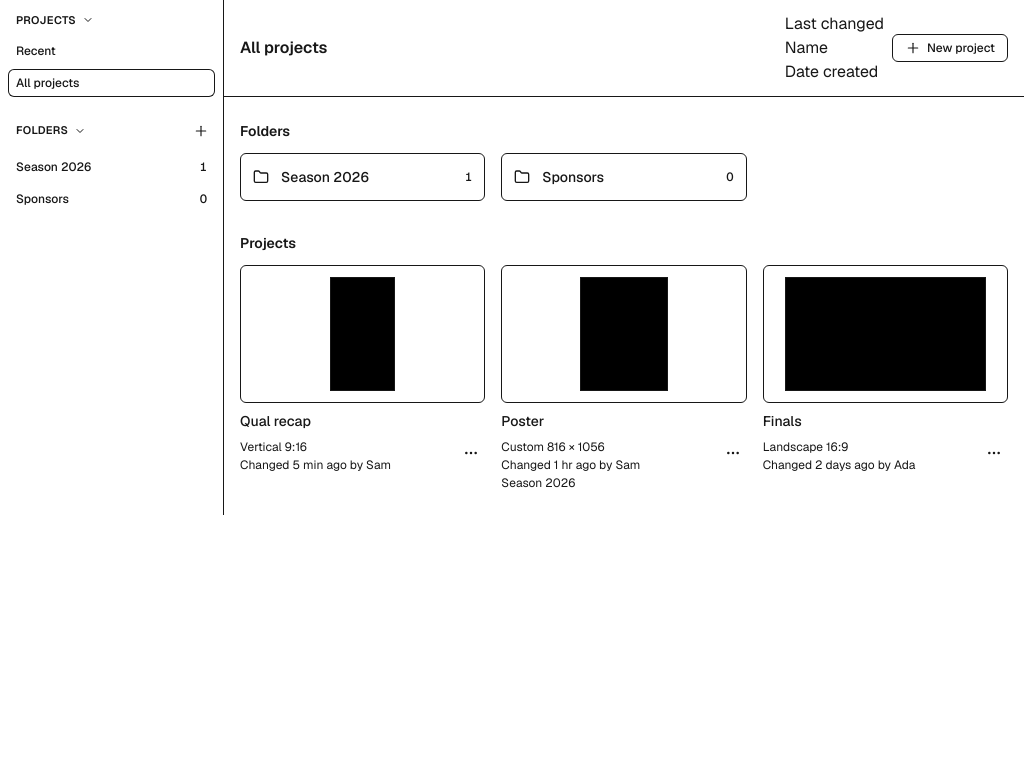
Test case: a card's Move to… item › opens the dialog with the targets
The width and height of the screenshot is (1024, 768).
What coordinates should you click on to do the following:
click the button named "Project options" next to "Changed 5 min ago by Sam"
I would click on:
 (471, 453)
Its box is [457,439,485,467].
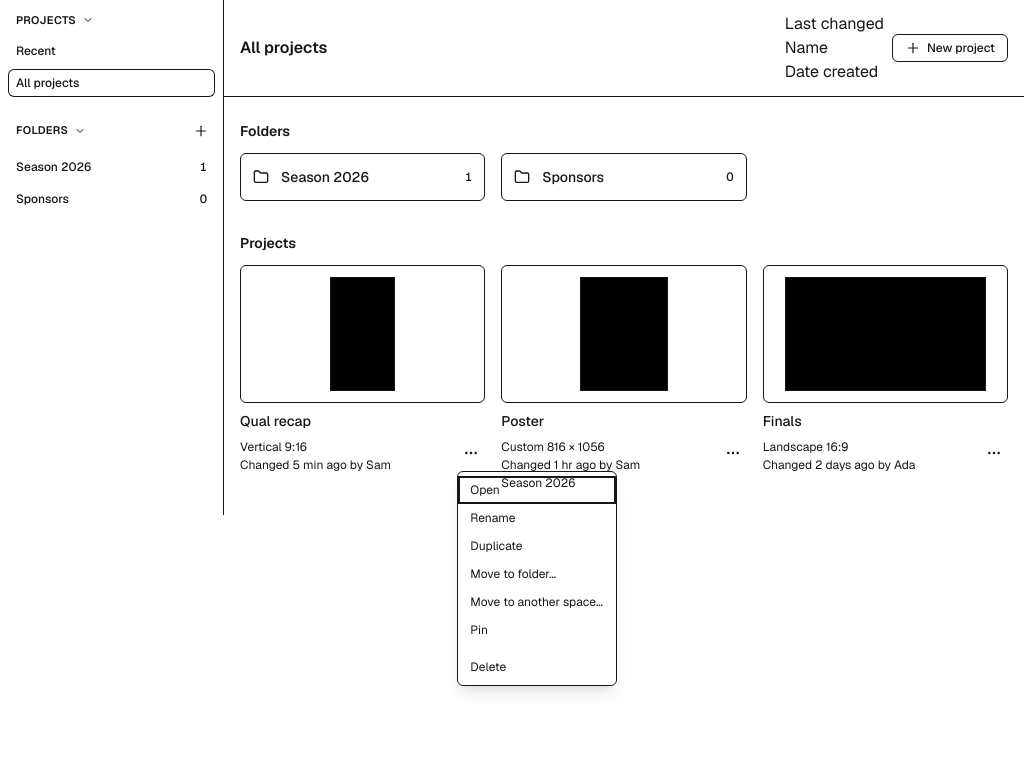
What coordinates should you click on to do the following:
click the menu item "Move to another space…"
I would click on:
 (537, 602)
Its box is [458,588,616,616].
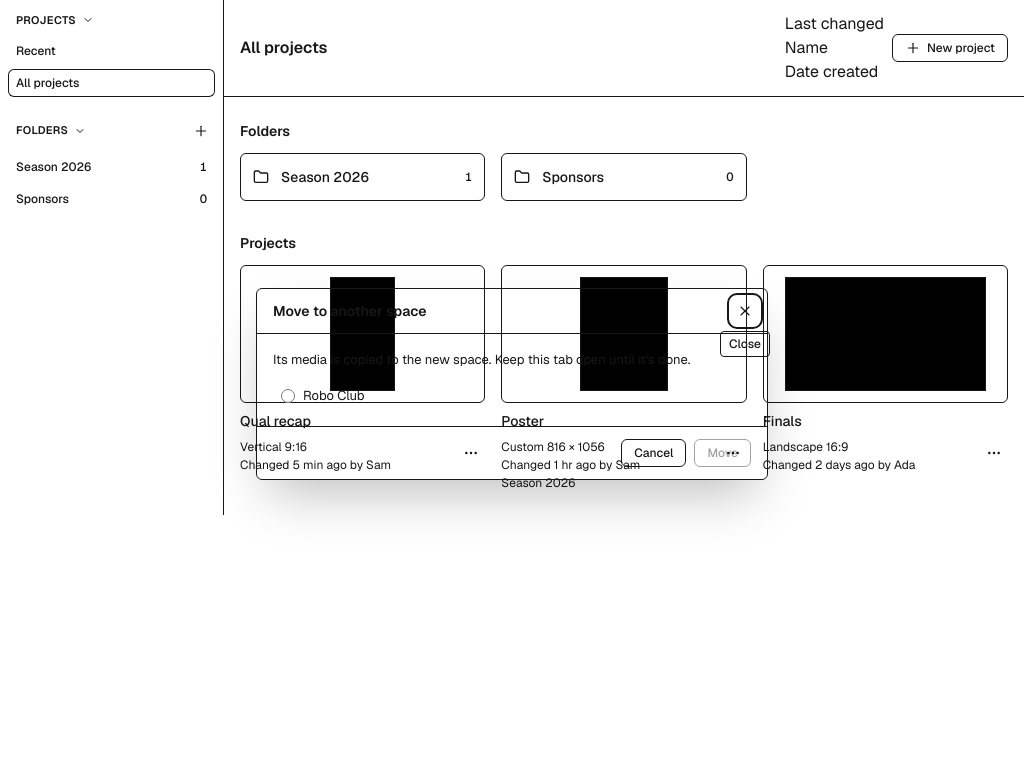
Expected: the radio button labelled "Robo Club" is shown, [281,389,295,403]
